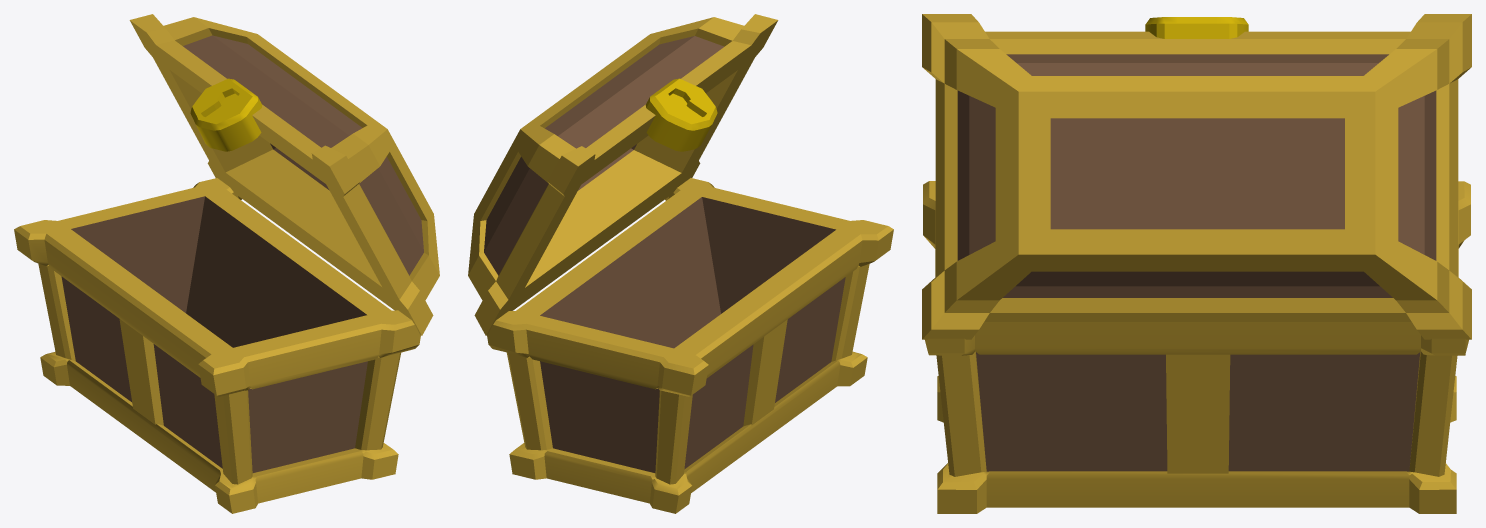
File: OpenChest.fbx
3 views of the same model, side by side, from view 1: azimuth 30°, elevation 25°; view 2: azimuth 150°, elevation 25°; view 3: azimuth 270°, elevation 25° (orthographic). The views are drawn at different scales.
Parts seen in each view (by area): view 1: Frame, Sides1, LidFrame, LidSides, Lock; view 2: Frame, Sides1, LidFrame, LidSides, Lock; view 3: LidFrame, LidSides, Frame, Sides1, Lock.
Part boxes in pixels (x1,y1,x2,y2): Frame: [14, 178, 420, 513]; Sides1: [61, 196, 367, 472]; LidFrame: [129, 14, 439, 335]; LidSides: [183, 35, 423, 275]; Lock: [190, 78, 262, 151]; Frame: [487, 178, 893, 513]; Sides1: [540, 197, 845, 472]; LidFrame: [468, 14, 778, 335]; LidSides: [484, 36, 723, 275]; Lock: [645, 78, 717, 151]; LidFrame: [922, 14, 1471, 339]; LidSides: [957, 54, 1436, 297]; Frame: [923, 181, 1470, 513]; Sides1: [976, 352, 1420, 471]; Lock: [1145, 17, 1248, 38].
Bounding box in the file's own units: 53.14 × 66.2 × 72.14.
